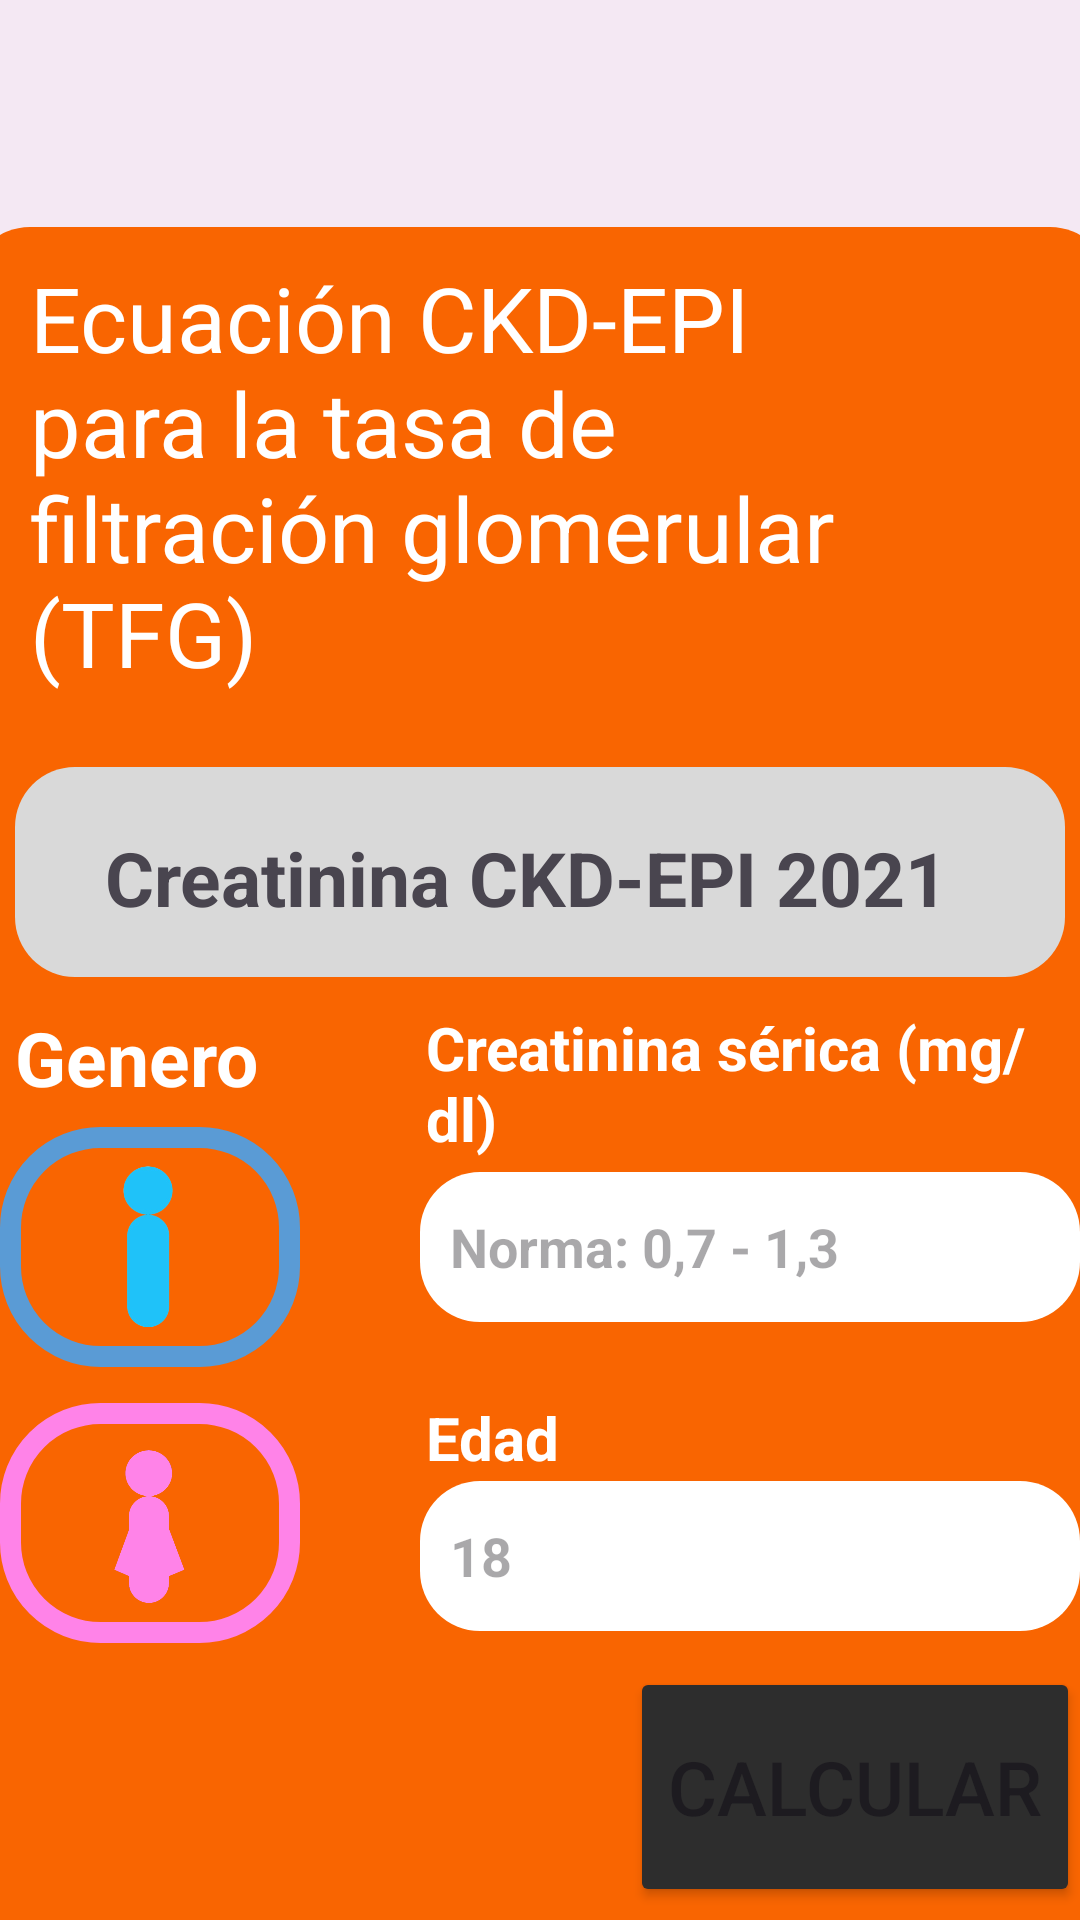

Icons on this 1080*1920 Android screen, each with the point to tap as [x,y]:
femenino: [150,1523]
masculino: [150,1247]
